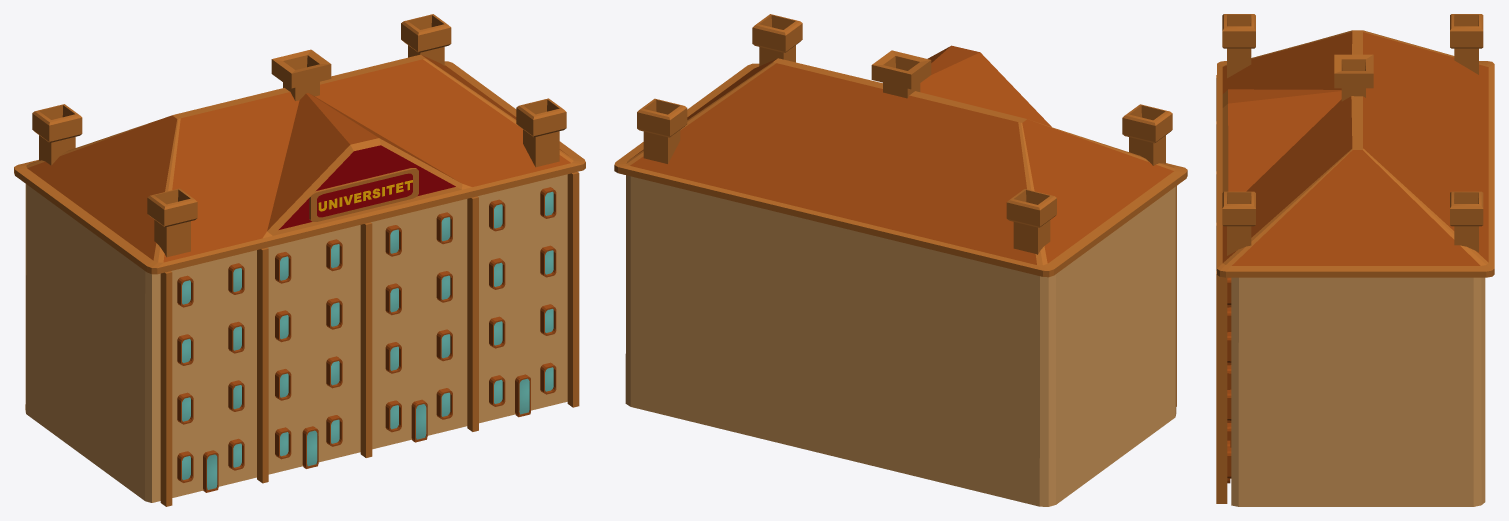
File: SM_Universitet.fbx
3 renders of one model, left to right at view 1: azimuth 30°, elevation 25°; view 2: azimuth 150°, elevation 25°; view 3: azimuth 270°, elevation 25°, orthographic.
Parts seen in each view (by area): view 1: SM_Universitet; view 2: SM_Universitet; view 3: SM_Universitet.
Boxes of the visible parts, box(x1,y1,x2,y2) form: SM_Universitet: box(14, 14, 585, 506); SM_Universitet: box(614, 14, 1187, 506); SM_Universitet: box(1216, 14, 1494, 506).
Size of the model in its own units: 2598 by 1957 by 1450.
